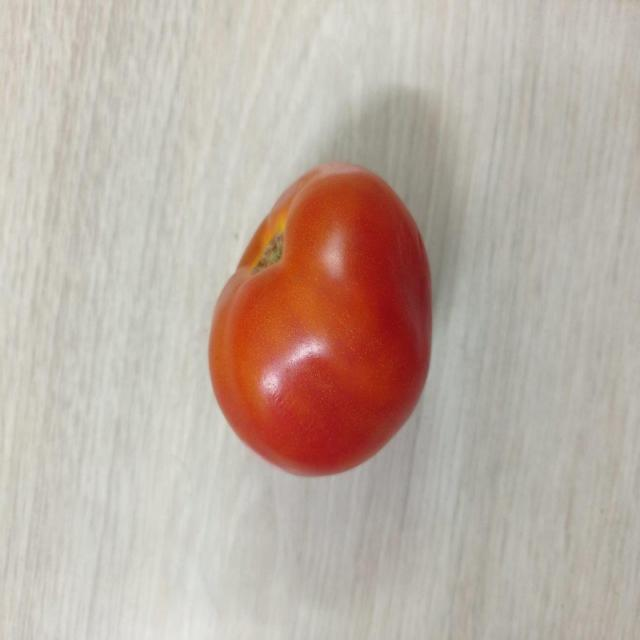Tomato: (203, 157, 438, 480)
